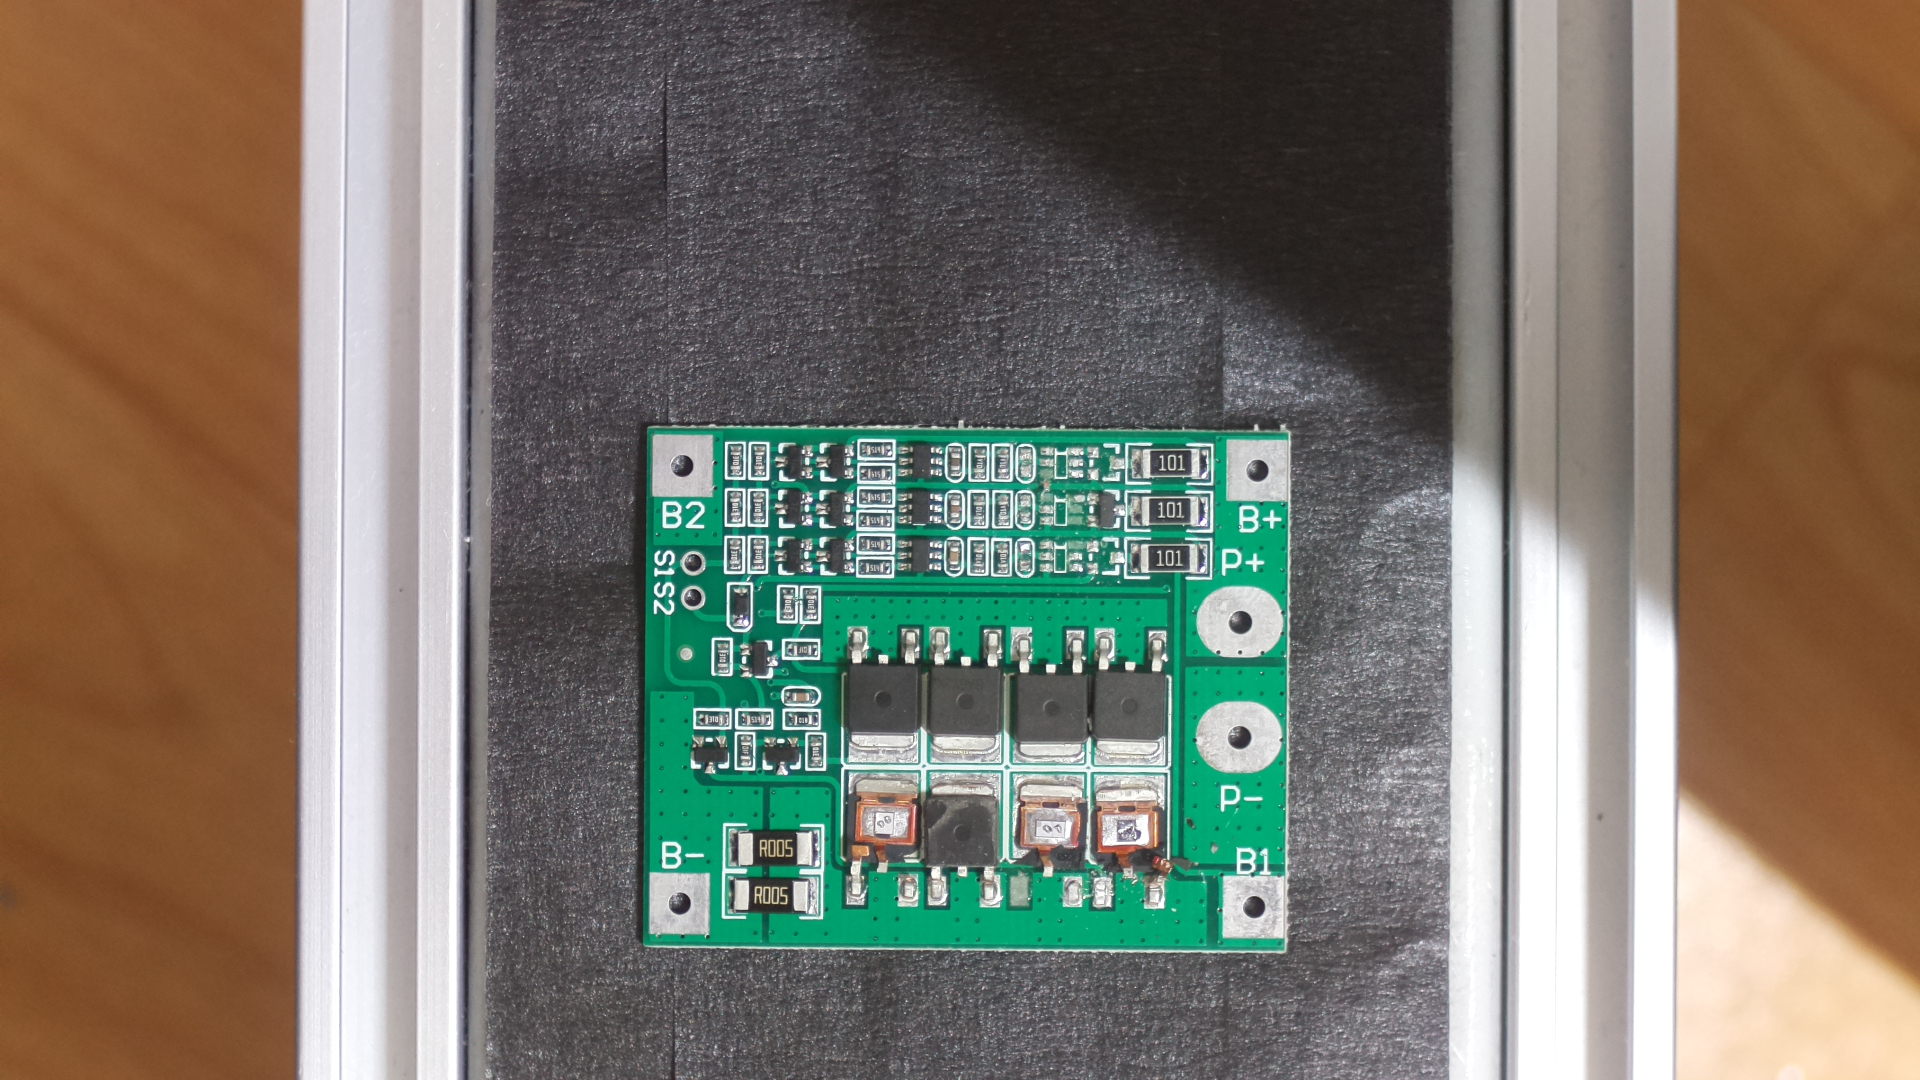C_Missing_part: (633, 406, 1309, 973)
